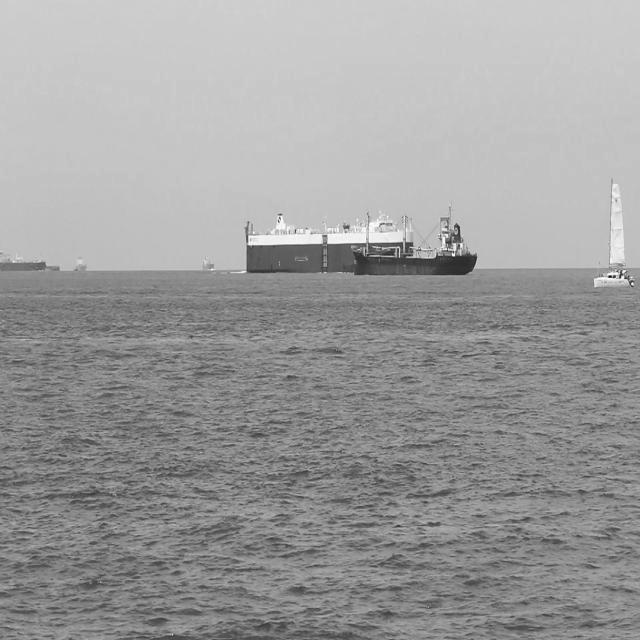ship: (242, 207, 416, 278), (347, 198, 481, 278), (592, 168, 636, 288), (0, 246, 49, 274), (70, 250, 88, 274), (200, 252, 216, 273)
